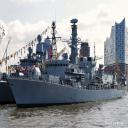Fragata: (6, 18, 126, 110)
